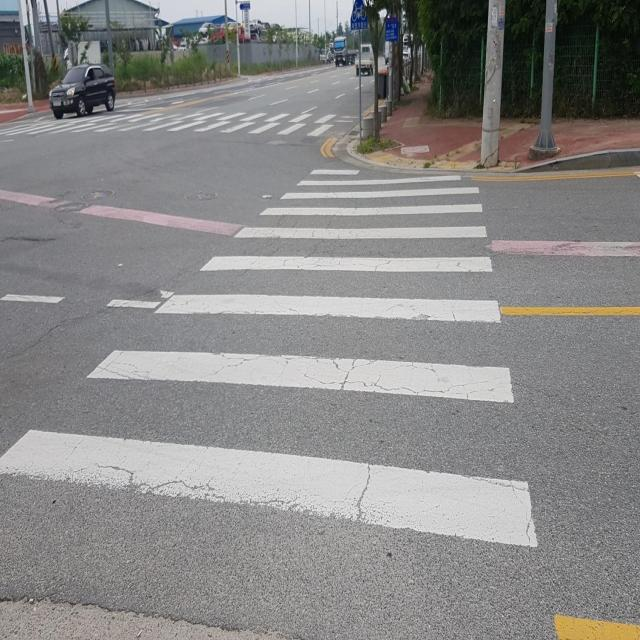횡단보도: (0, 167, 540, 552), (0, 101, 345, 138)
